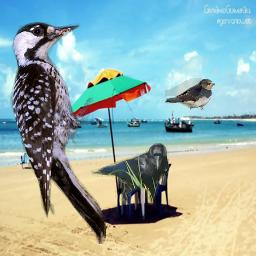Crow: (90, 143, 169, 205)
Swallow: (165, 78, 215, 110)
Woodpecker: (10, 22, 106, 244)
